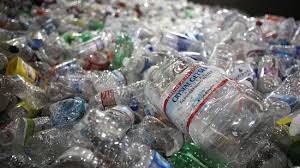Botella: (90, 81, 145, 110)
